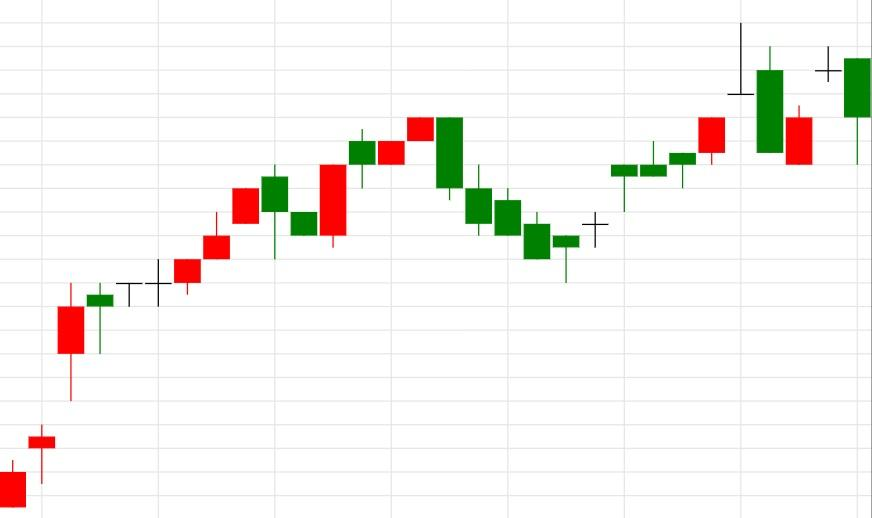bearish_engulfing_fall: (289, 117, 464, 248)
